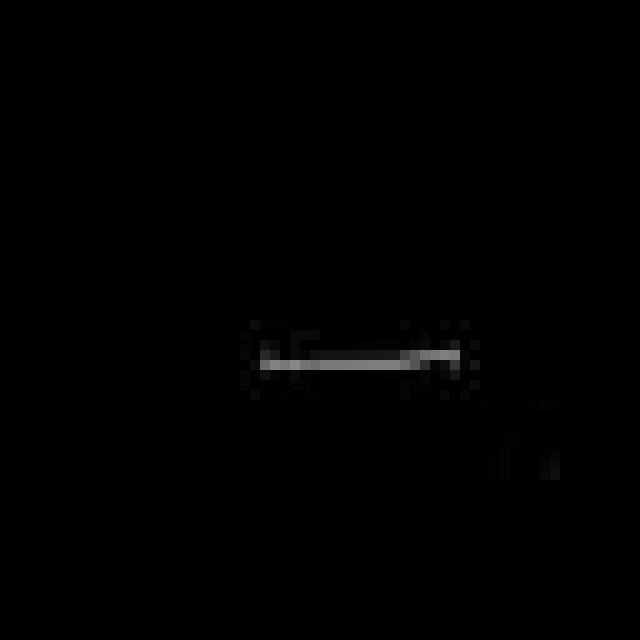1 -one-: (247, 333, 479, 386)
